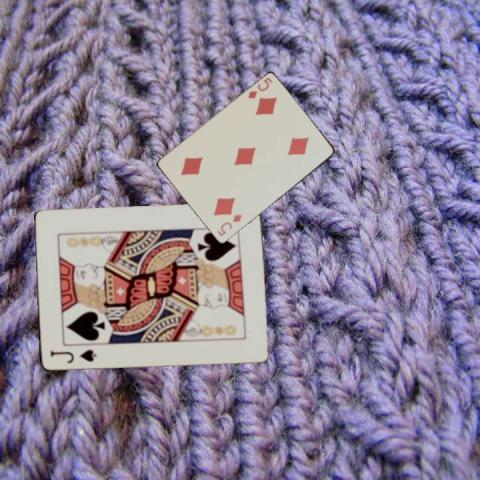5d: (214, 211, 243, 238), (245, 75, 274, 100)
Js: (47, 347, 98, 366)
